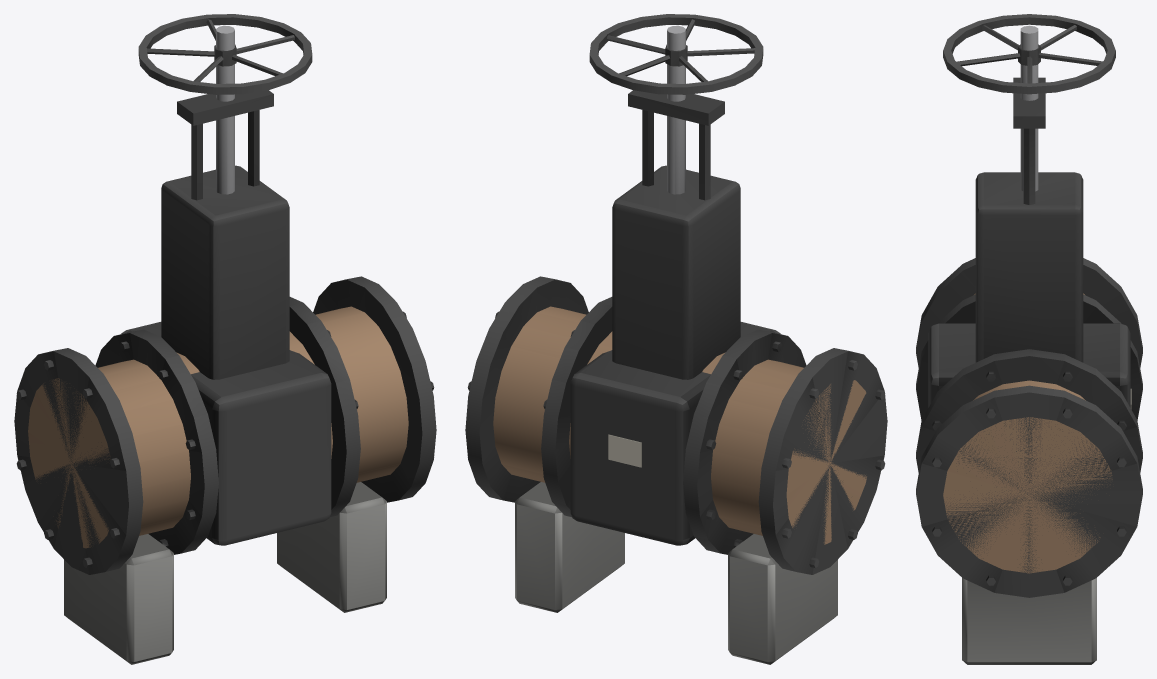
File: gate_valve.glb
The picture shows the model from 3 angles, left to right: view 1: azimuth 30°, elevation 25°; view 2: azimuth 150°, elevation 25°; view 3: azimuth 270°, elevation 25°; orthographic projection.
Parts seen in each view (by area): view 1: static; view 2: static; view 3: static.
Boxes of the visible parts, box(x1,y1,x2,y2) form: static: box(14, 14, 436, 664); static: box(465, 14, 887, 664); static: box(916, 14, 1142, 664).
Bounding box in the file's own units: 1.35 × 2.35 × 0.84.
